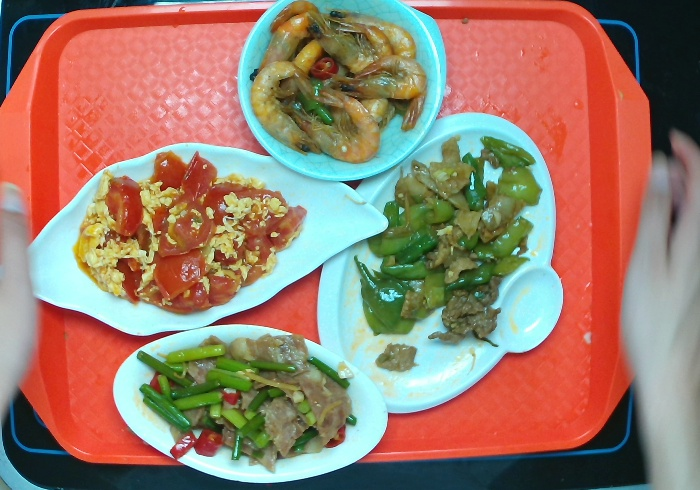RJxy-Bai_Se_Tuo_Yuan: (103, 320, 392, 487)
RJxy-Shu_Ye_Pan: (21, 138, 391, 339)
RJxy-Xiao_Jiao_Yuan_Wan: (232, 3, 451, 187)
RJxy-Zhan_Liao_Pan: (311, 107, 567, 427)
